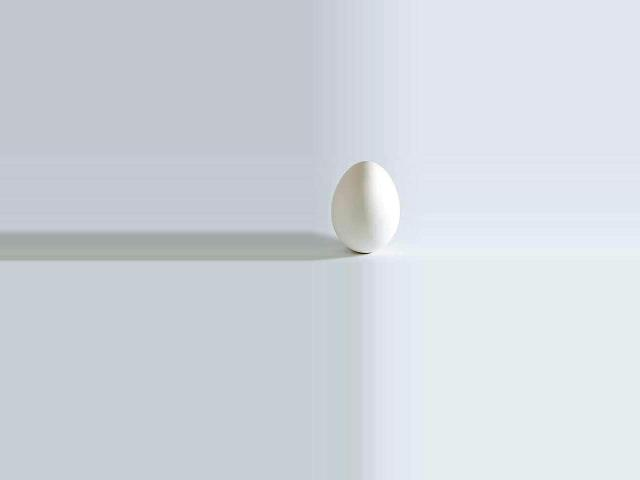egg: (332, 160, 400, 253)
